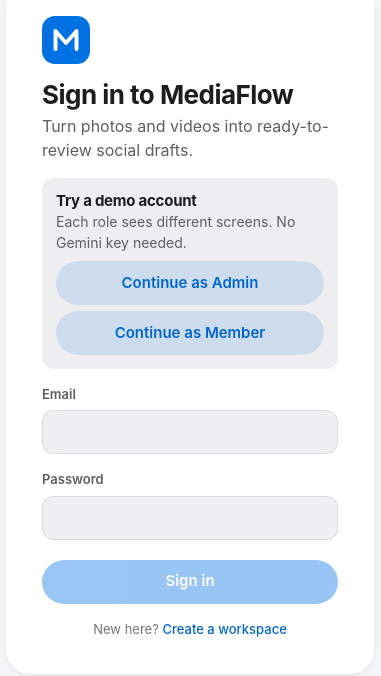
Test case: Login › creates a workspace when sign-up is open
This screenshot has width=381, height=676.
Later steps or results of the test are not shown.
Click the button "Create a workspace". click: (225, 629)
box: [162,620,287,638]
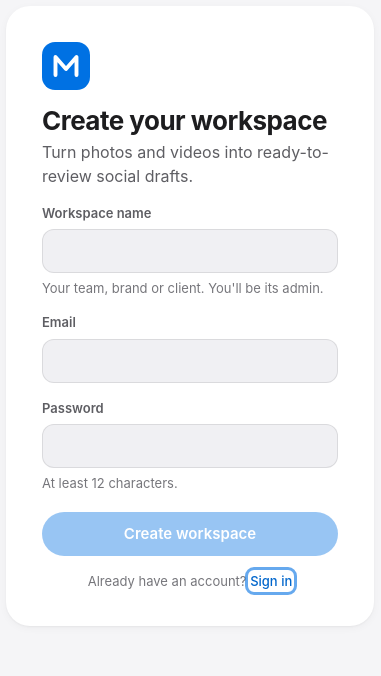
Now the heading "Create your workspace" is shown, box [42,106,338,135]
Now the heading "Try a demo account" is gone
